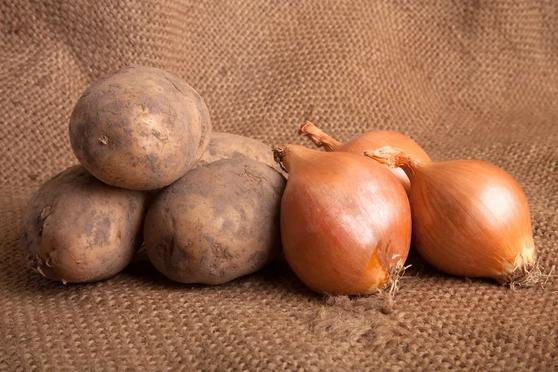onion: (366, 139, 543, 294), (274, 139, 413, 299)
potato: (146, 148, 285, 282), (69, 63, 211, 188)
